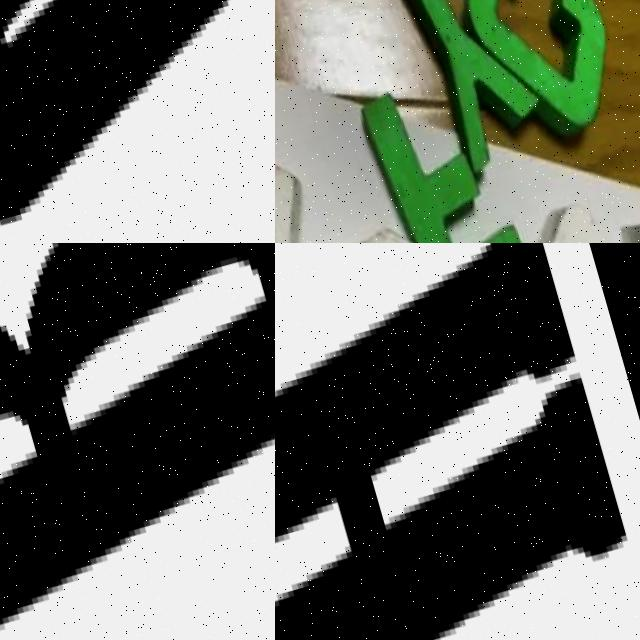C: (443, 0, 629, 145)
F: (349, 79, 536, 243)
H: (275, 243, 627, 640)
Q: (470, 177, 640, 243)
R: (0, 243, 275, 640)
Y: (372, 0, 539, 174)
Z: (0, 0, 275, 235), (275, 141, 450, 243)
